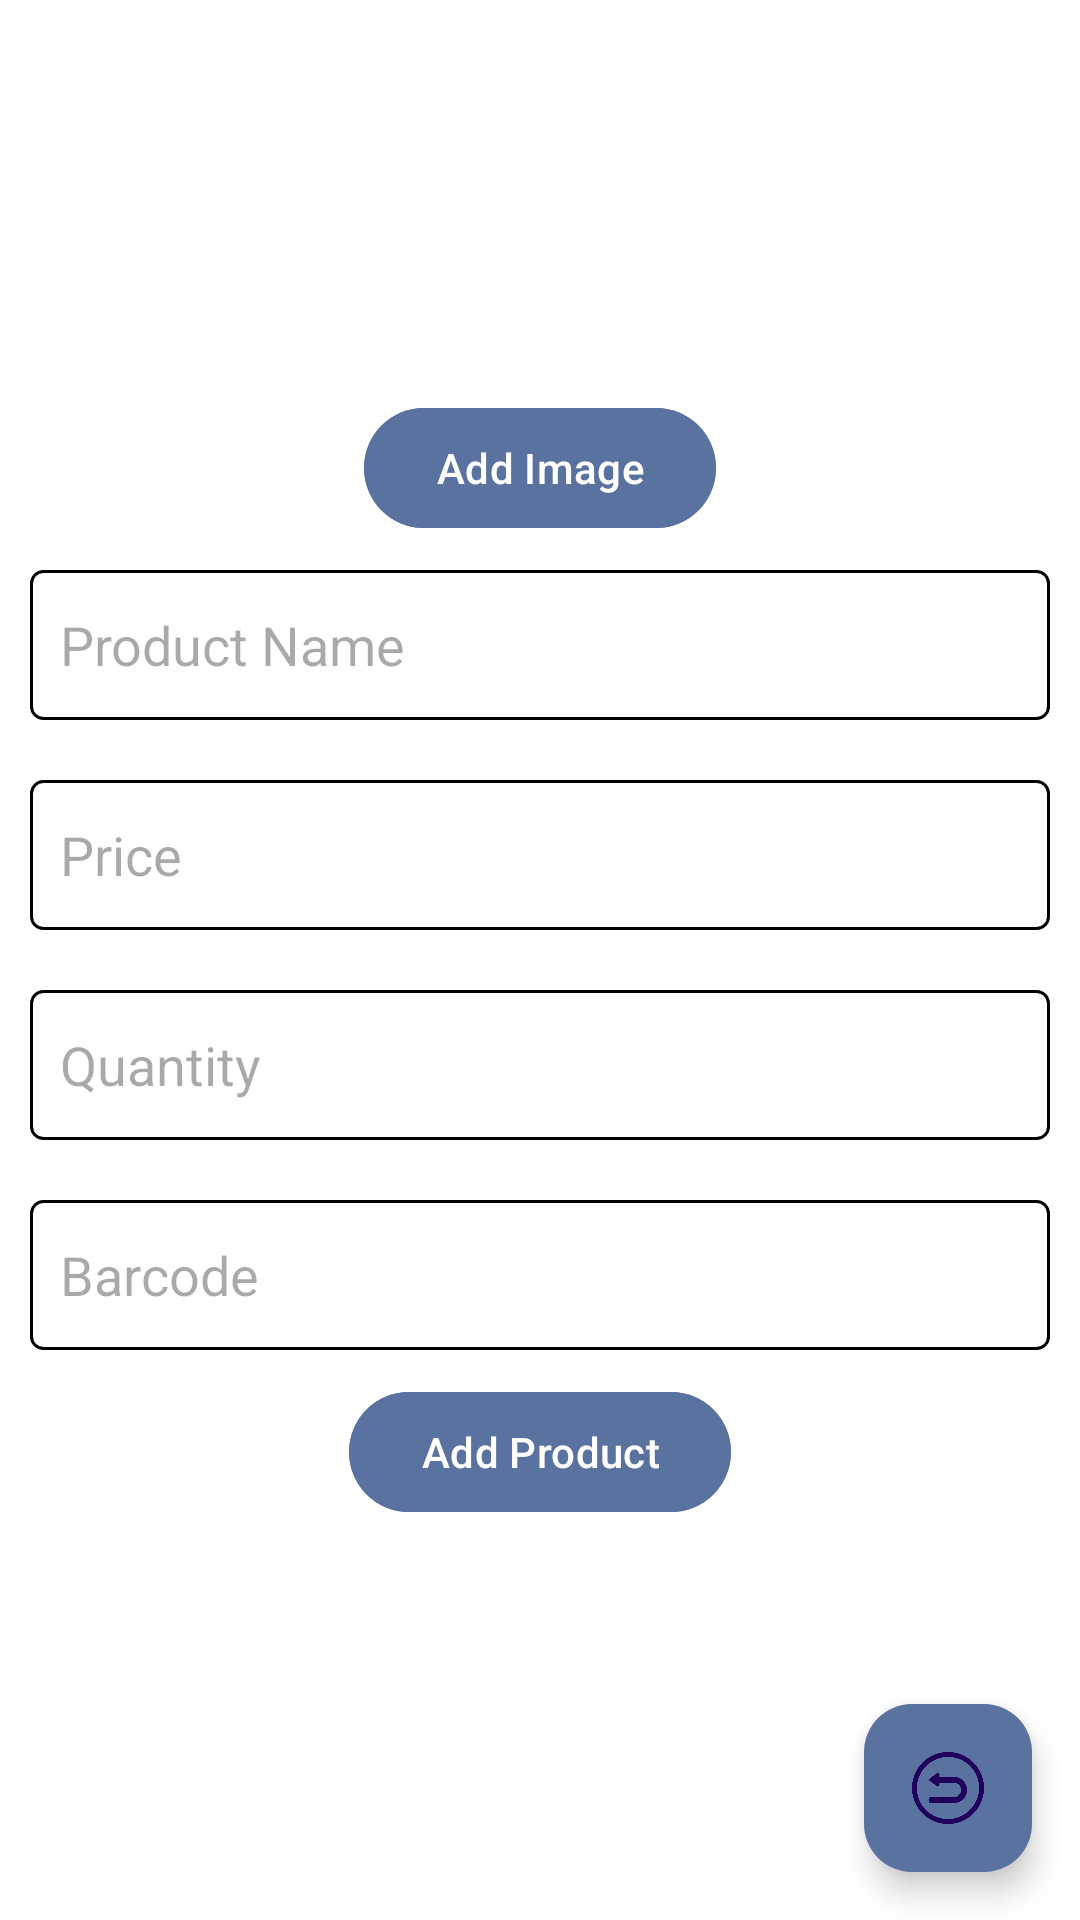

Named icons in this screenshot (1080×1920) and their centers, (x,y):
go back: (948,1788)
